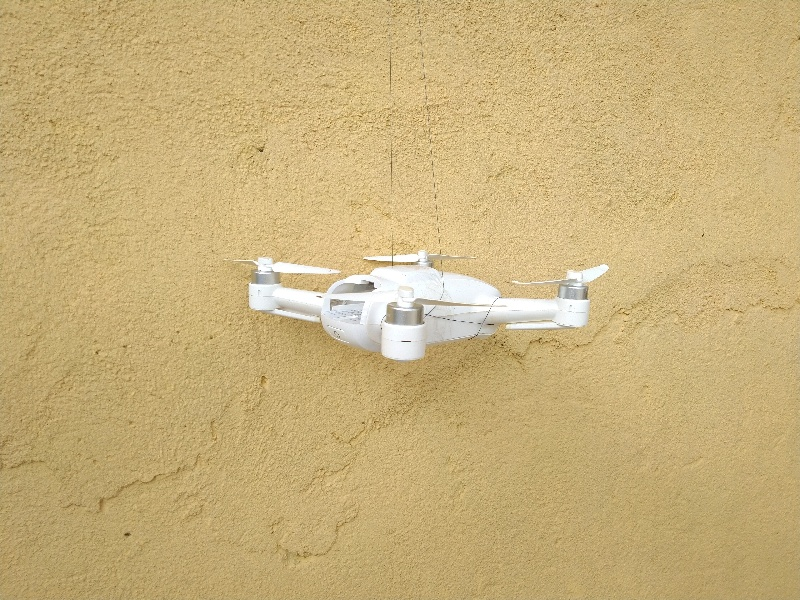drone: (226, 235, 615, 372)
